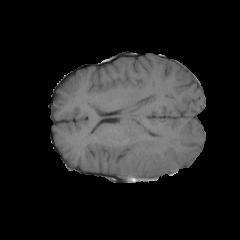glioma: (133, 136, 171, 176)
